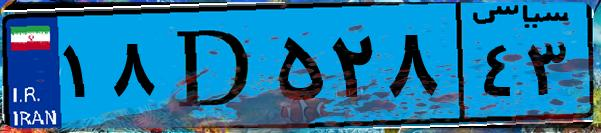1: (57, 26, 110, 100)
2: (330, 28, 385, 110)
3: (525, 38, 570, 115)
4: (475, 38, 525, 113)
5: (270, 28, 330, 110)
8: (385, 28, 445, 110), (110, 28, 158, 98)
D: (158, 12, 270, 120)
